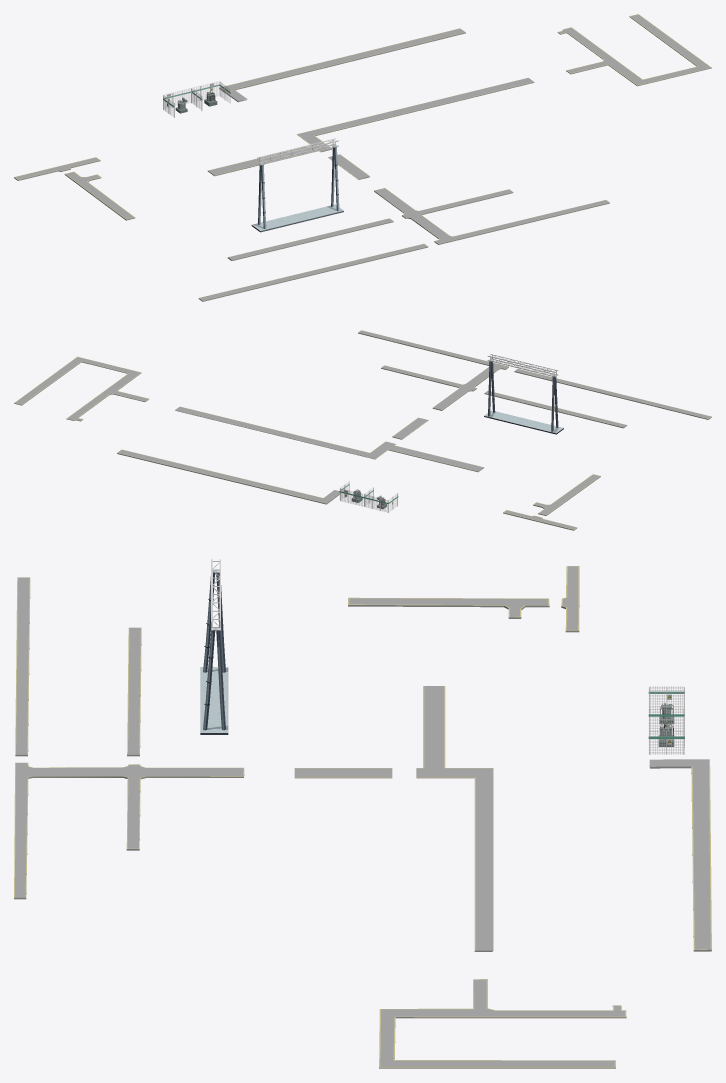
3 views of the same model, one above another, from view 1: azimuth 30°, elevation 25°; view 2: azimuth 150°, elevation 25°; view 3: azimuth 270°, elevation 25° (orthographic). The views are drawn at different scales.
Visible parts, largest first — view 1: 12-材质.22 (×2), 12-材质.20 (×3), 12-a1.3, 12-材质.7, 12-材质.17; view 2: 12-材质.22 (×2), 12-材质.20 (×3), 12-a1.3, 12-材质.7, 12-材质.17; view 3: 12-材质.22 (×2), 12-材质.20 (×4), 12-a1.3, 12-材质.7.
Part boxes in pixels (x1,y1,x2,y2): 12-材质.22 (×2): [14, 14, 711, 301]; 12-材质.20 (×3): [199, 14, 711, 300]; 12-a1.3: [251, 145, 343, 232]; 12-材质.7: [163, 81, 229, 116]; 12-材质.17: [257, 138, 338, 165]; 12-材质.22 (×2): [14, 330, 711, 530]; 12-材质.20 (×3): [14, 330, 711, 503]; 12-a1.3: [484, 359, 563, 434]; 12-材质.7: [340, 482, 397, 512]; 12-材质.17: [487, 354, 558, 377]; 12-材质.22 (×2): [14, 566, 711, 1068]; 12-材质.20 (×4): [14, 566, 711, 1067]; 12-a1.3: [200, 570, 228, 734]; 12-材质.7: [649, 686, 684, 754].
Bounding box in the file's own units: 65.73 × 6.9 × 38.68.
Materials: 37 (31 with a texture image).
